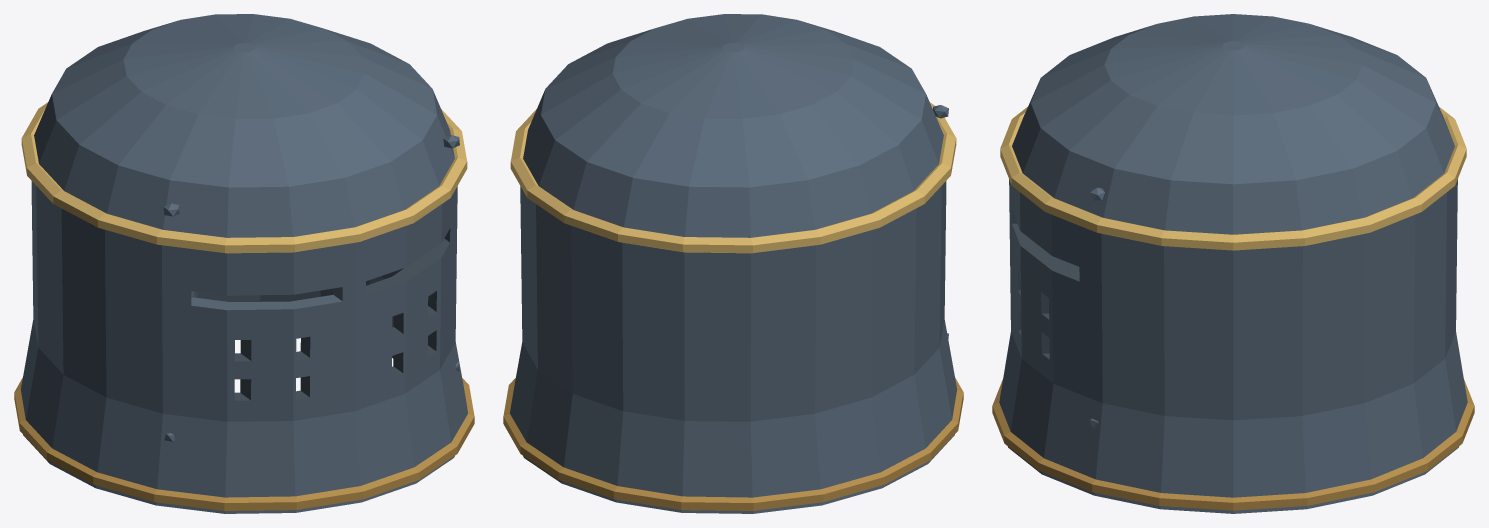
File: helm.glb
3 renders of one model, left to right at view 1: azimuth 30°, elevation 25°; view 2: azimuth 150°, elevation 25°; view 3: azimuth 270°, elevation 25°, orthographic.
Parts seen in each view (by area): view 1: dun_equi_great_helm; view 2: dun_equi_great_helm; view 3: dun_equi_great_helm.
Part boxes in pixels (x1,y1,x2,y2): dun_equi_great_helm: [14, 14, 474, 513]; dun_equi_great_helm: [503, 14, 963, 513]; dun_equi_great_helm: [992, 14, 1474, 513].
Bounding box in the file's own units: 0.4808 × 0.429 × 0.5032.
